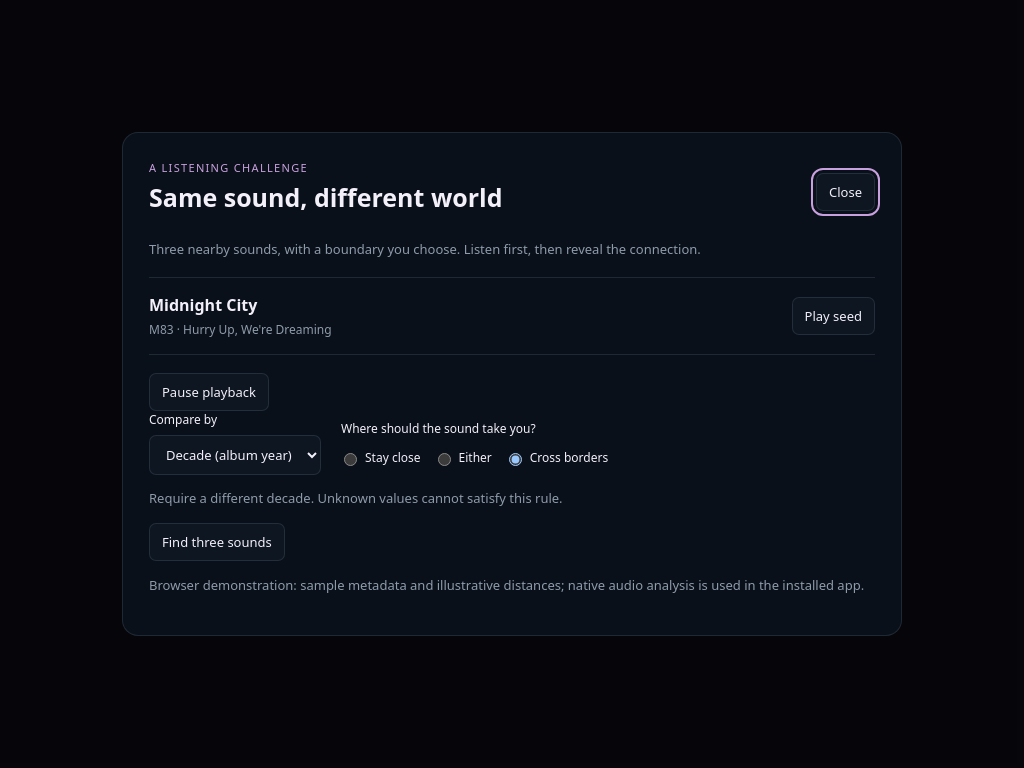
Test: explains insufficient analysis, empty and partial rounds, and retryable errors
This screenshot has width=1024, height=768.
What coordinates should you click on to do the following:
click the button "Find three sounds"
I would click on:
 (217, 542)
Its box is [149,523,285,561].
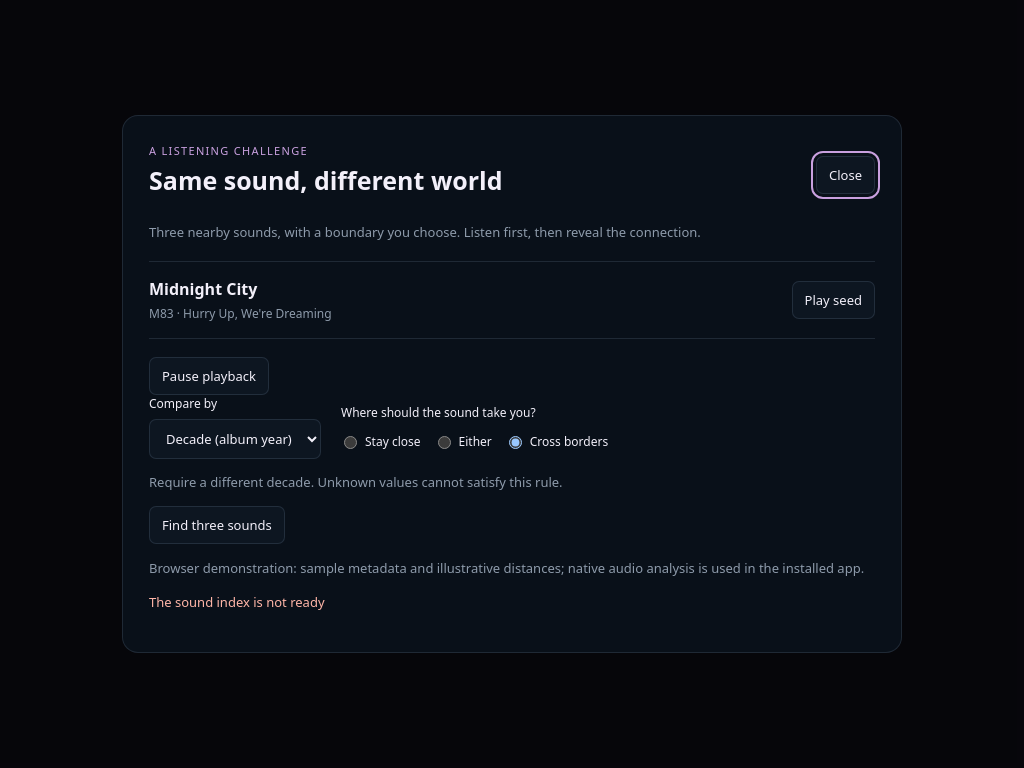
Result: the message shows "index is not ready" at [149,593,324,611]
What coordinates should you click on to do the following:
click the button "Find three sounds"
I would click on:
 (217, 525)
Its box is [149,506,285,544].
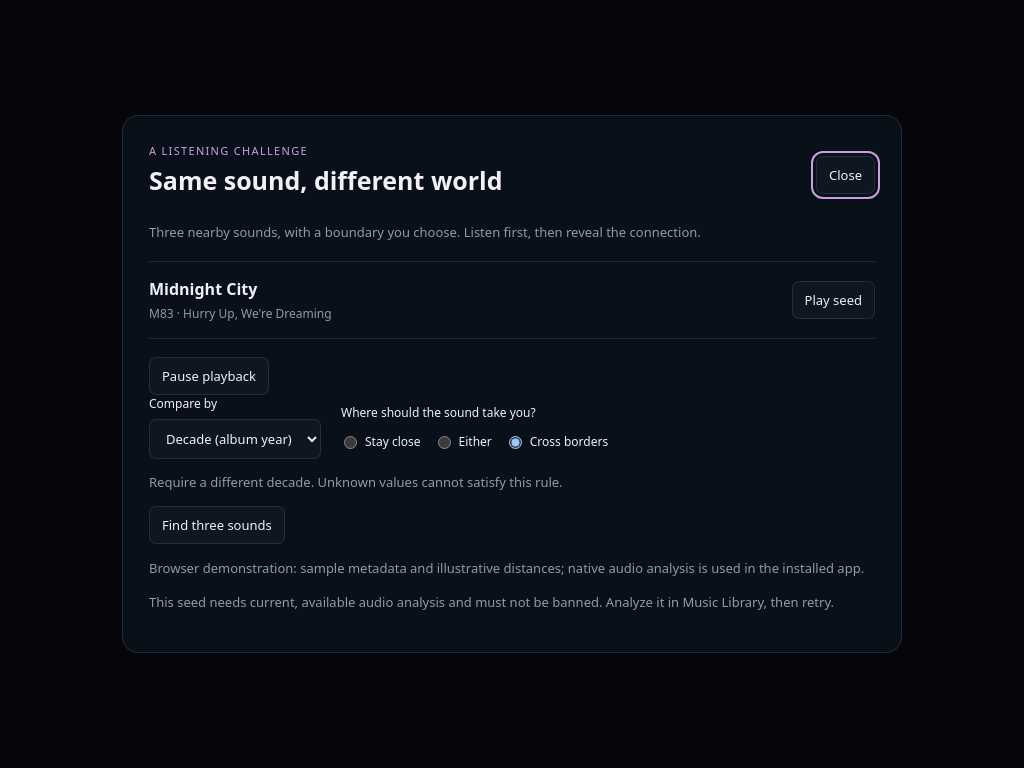
Result: the message shows "needs current, available audio analysis" at [149,593,834,611]
What coordinates should you click on to do the following:
click the button "Find three sounds"
I would click on:
 (217, 525)
Its box is [149,506,285,544].
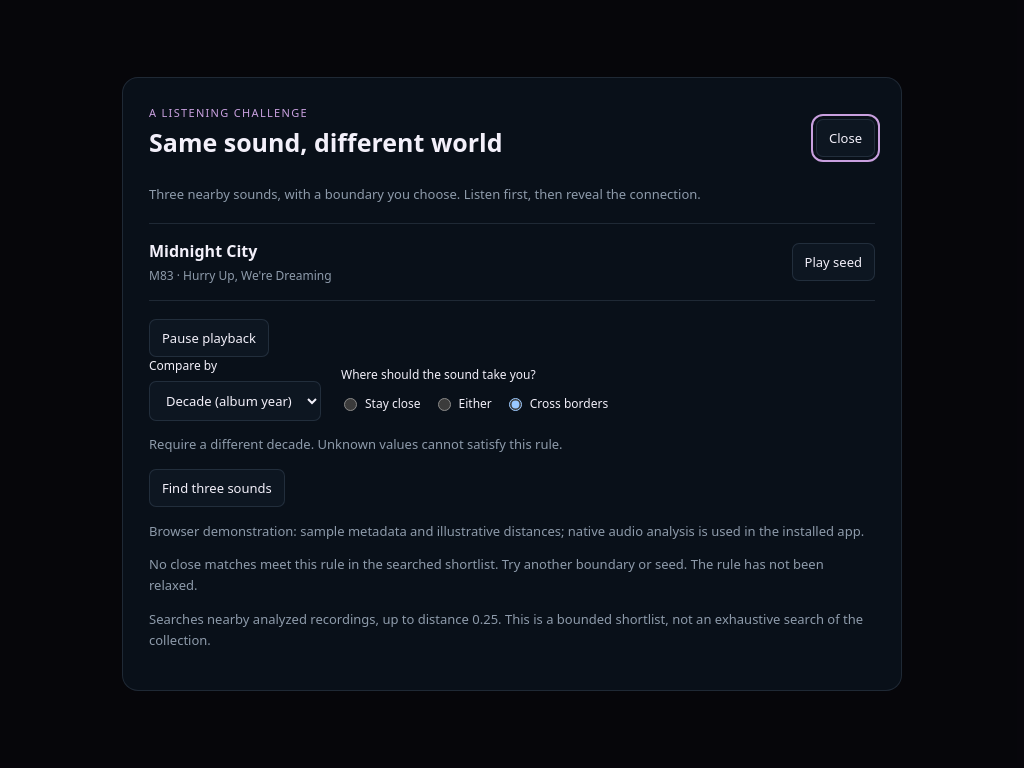
Result: the message shows "No close matches meet" at [149,555,291,573]
What coordinates should you click on to do the following:
click the button "Find three sounds"
I would click on:
 (217, 488)
Its box is [149,469,285,507].
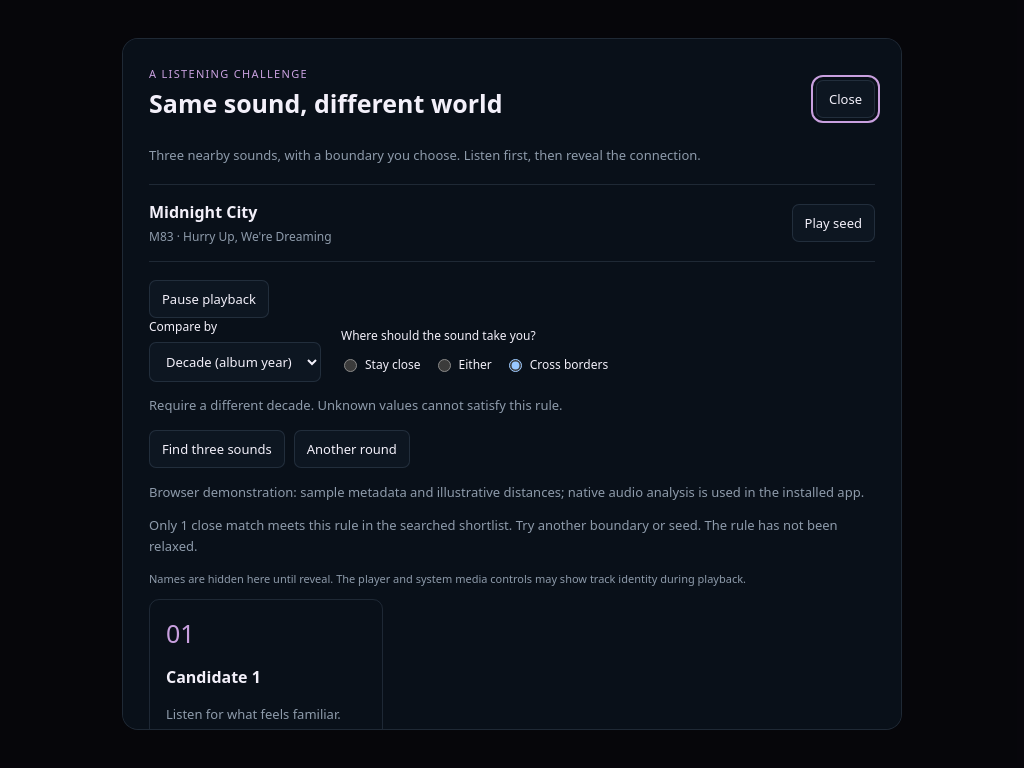
Result: the message shows "Only 1 close match meets" at [149,516,305,534]
